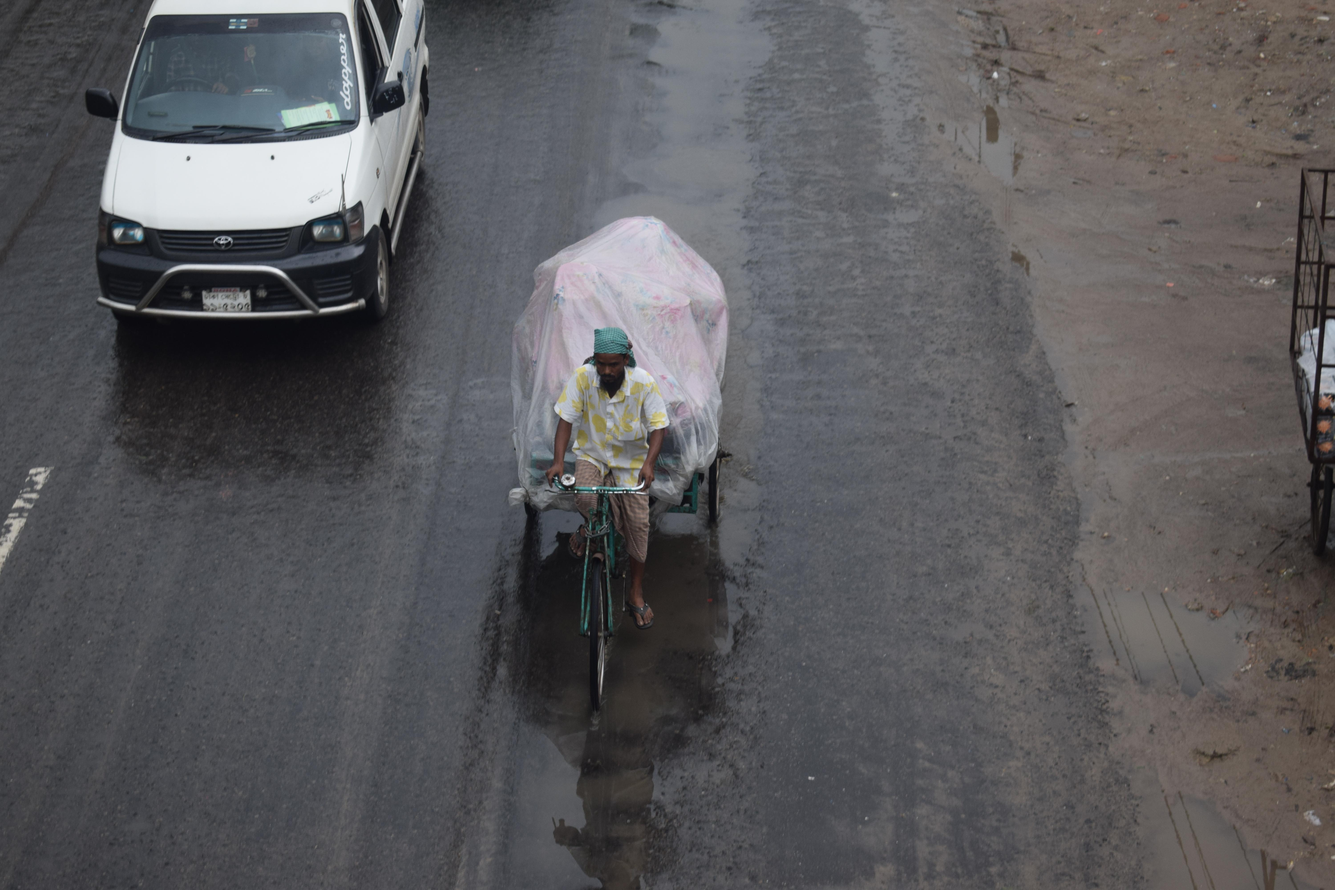Car: (456, 185, 836, 744), (29, 0, 490, 413)
